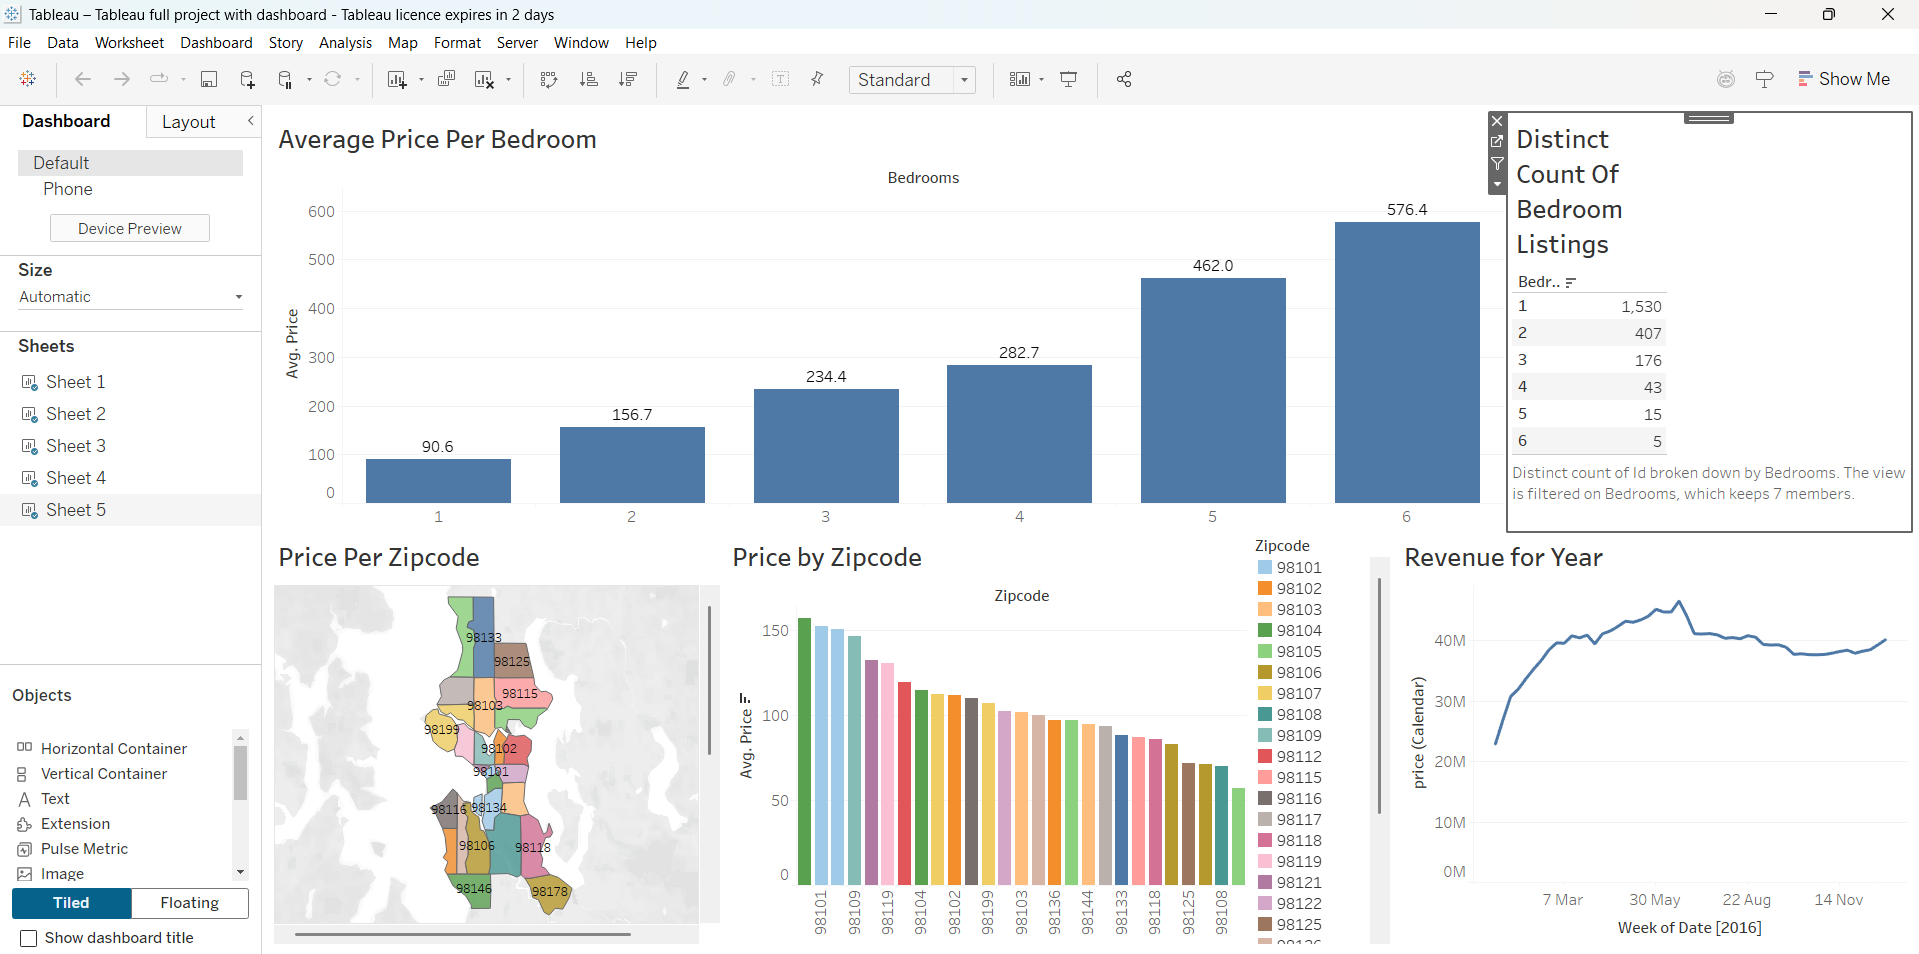

The page's visual inventory and layout, read from the dashboard file:
{"tool":"tableau","page":{"name":"Dashboard 1","canvas":[1000,1000],"units":"permille","ordinal":0},"visuals":[{"type":"worksheet","title":"Sheet 4","mark":"Automatic","rows":["price"],"cols":["bedrooms"],"box":[4.7,9.4,747.4,490.6]},{"type":"worksheet","title":"Sheet 5","mark":"Automatic","rows":["bedrooms"],"box":[752.1,9.4,243.2,490.6]},{"type":"worksheet","title":"Sheet 2","mark":"Multipolygon","box":[4.7,500,274.1,490.6]},{"type":"worksheet","title":"Sheet 1","mark":"Automatic","rows":["price"],"cols":["zipcode"],"box":[278.8,500,318.1,490.6]},{"type":"legend","title":"Sheet 1","param":"[federated.1yln2v21tkfjov14qw3zx0lltixj].[none:zipcode:ok]","box":[596.9,500,87.3,490.6]},{"type":"worksheet","title":"Sheet 3","mark":"Automatic","rows":["price (Calendar)"],"cols":["date"],"box":[684.2,500,311.1,490.6]}]}

Visuals, with their boxes on the dashboard's canvas, which has no fixed pixel size, in thousandths of its width and height (x1, y1, x2, y2). These are canvas units, not pixel positions in the 1919x954 screenshot, which may show the page scaled, cropped or inside an application window:
"Sheet 4" worksheet: 5 9 752 500
"Sheet 5" worksheet: 752 9 995 500
"Sheet 2" worksheet (Multipolygon marks): 5 500 279 991
"Sheet 1" worksheet: 279 500 597 991
"Sheet 1" legend: 597 500 684 991
"Sheet 3" worksheet: 684 500 995 991
